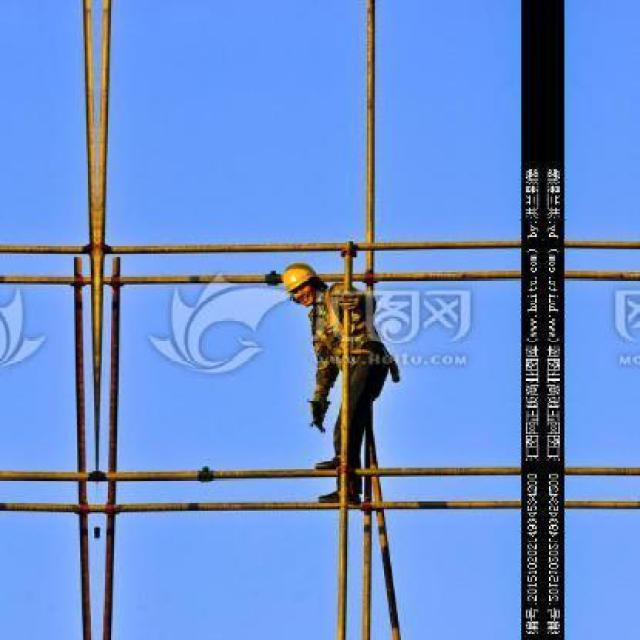helmet: (280, 258, 318, 298)
